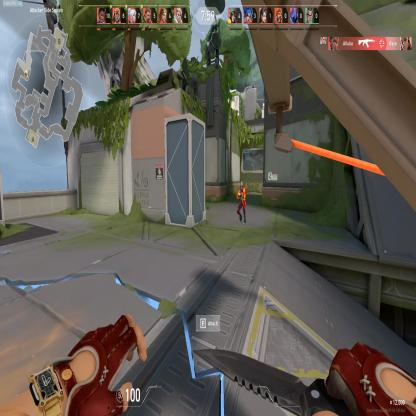enemy: (235, 180, 247, 226)
